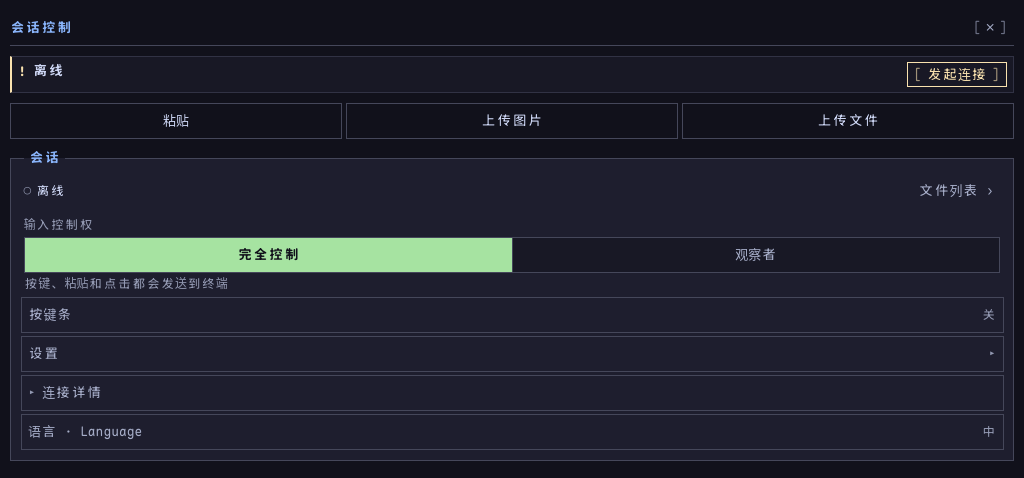
Header commands › offers both languages by name and switches with one tap
Click the button named "界面语言". click: (85, 432)
box: [20,414,1004,450]
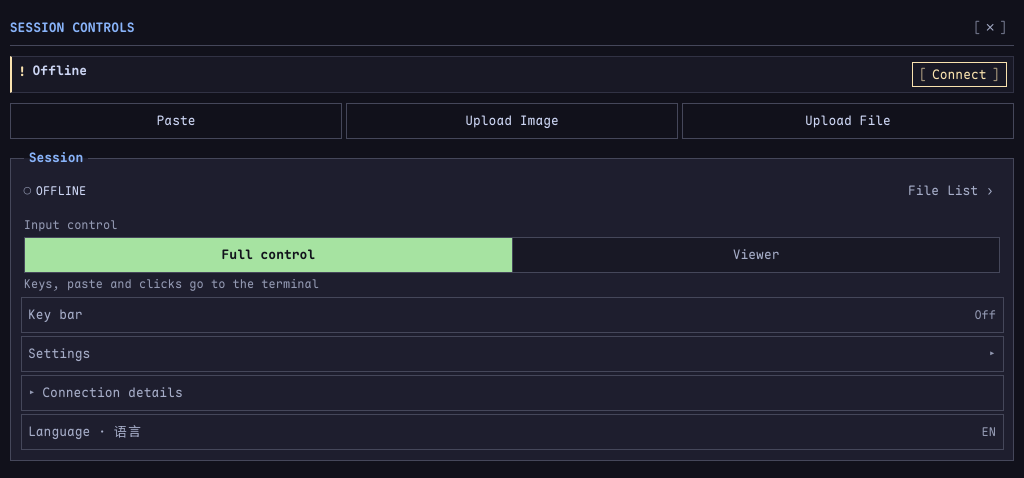
Expected: the button named "terminal settings" is shown, [20,336,1004,372]
